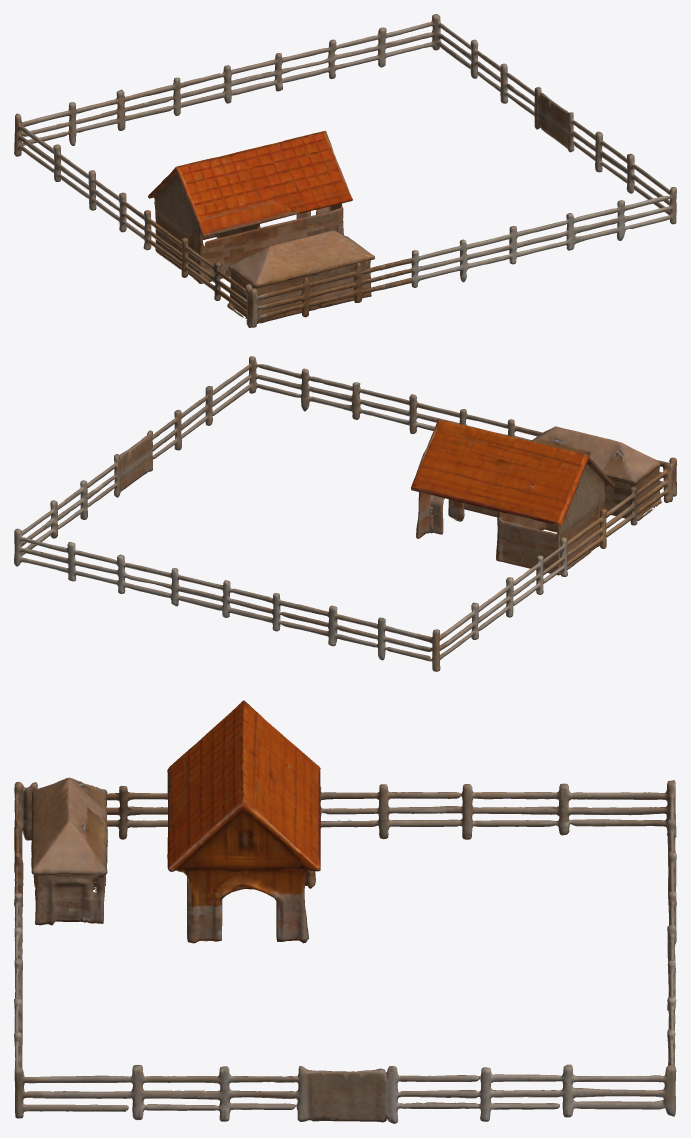
Rendered from farm.glb.
3 renders of one model, top to bottom at view 1: azimuth 30°, elevation 25°; view 2: azimuth 150°, elevation 25°; view 3: azimuth 270°, elevation 25°, orthographic. The views are drawn at different scales.
Bounding box in the file's own units: 2 × 0.4807 × 1.95.
Materials: 1 (1 with a texture image).
